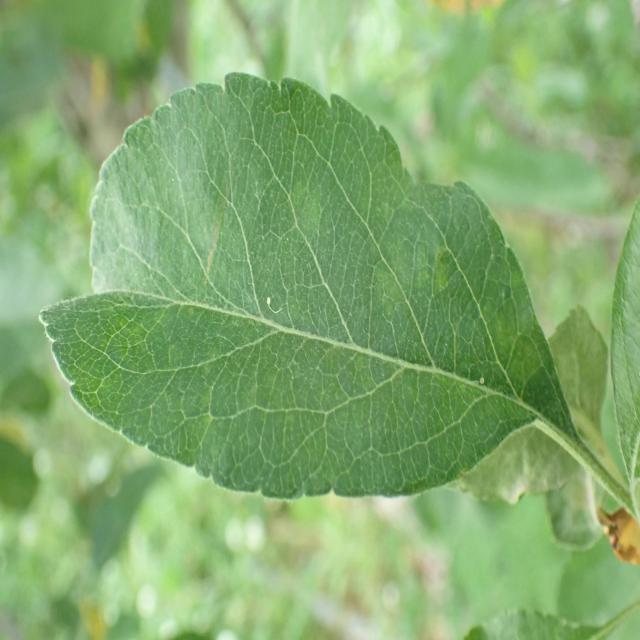scab: (82, 114, 554, 486)
